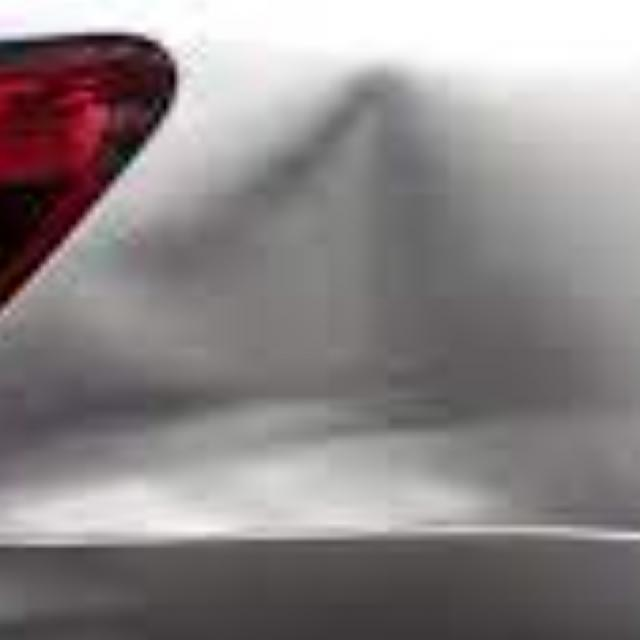dents: (147, 85, 613, 540)
